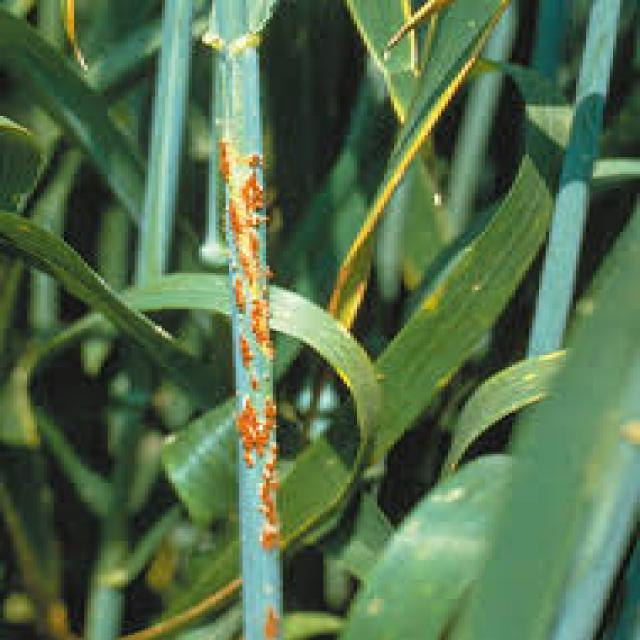wheat-stemrust: (211, 79, 284, 637)
